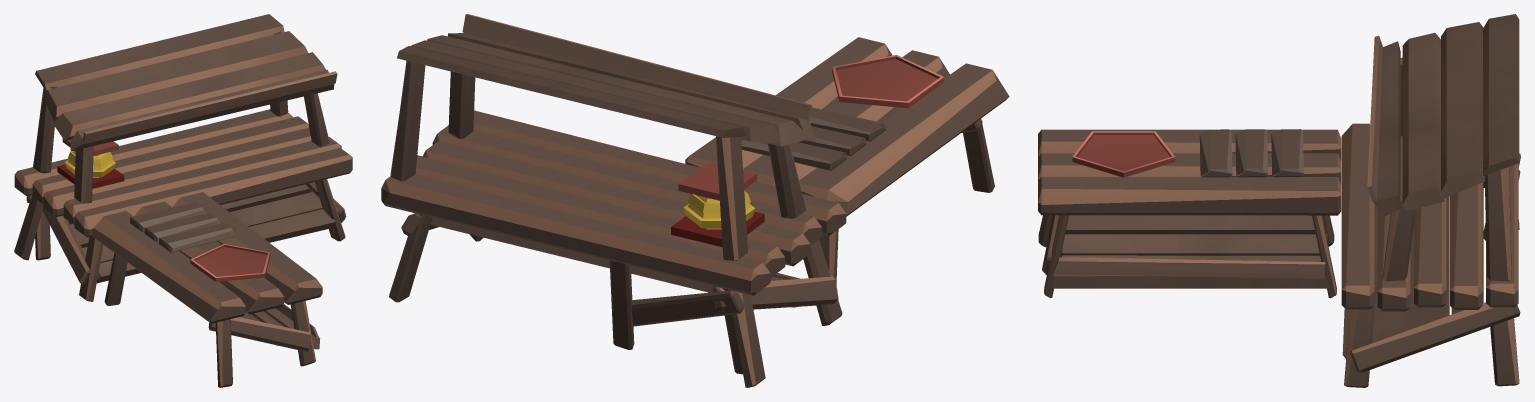
Rendered from shop_1lvl.fbx.
3 views of the same model, side by side, from view 1: azimuth 30°, elevation 25°; view 2: azimuth 150°, elevation 25°; view 3: azimuth 270°, elevation 25° (orthographic). The views are drawn at different scales.
Parts seen in each view (by area): view 1: shop_1lvl; view 2: shop_1lvl; view 3: shop_1lvl.
Part boxes in pixels (bbox=[...]): shop_1lvl: bbox=[14, 14, 352, 387]; shop_1lvl: bbox=[381, 14, 1009, 387]; shop_1lvl: bbox=[1038, 14, 1520, 387].
Bounding box in the file's own units: 303 × 191 × 366.
